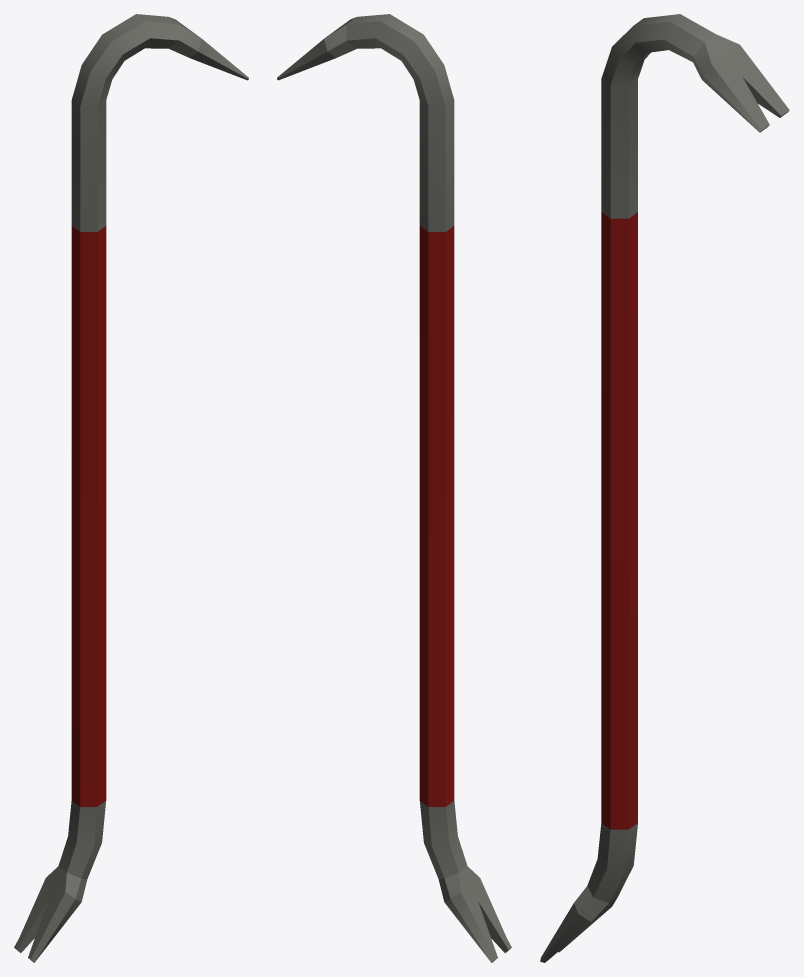
The model's file is CrowaBarHolder.fbx.
3 views of the same model, side by side, from view 1: azimuth 30°, elevation 25°; view 2: azimuth 150°, elevation 25°; view 3: azimuth 330°, elevation 25° (orthographic). The views are drawn at different scales.
Visible parts, largest first — view 1: crowbar; view 2: crowbar; view 3: crowbar.
Boxes of the visible parts, bbox=[...] form: crowbar: bbox=[14, 14, 248, 962]; crowbar: bbox=[277, 14, 511, 962]; crowbar: bbox=[540, 14, 789, 962].
Bounding box in the file's own units: 0.1483 × 0.6065 × 0.0377.
